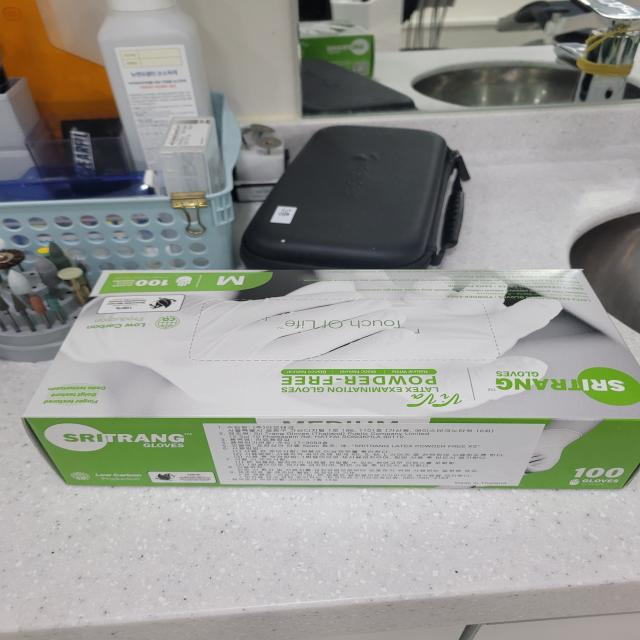glove: (23, 255, 640, 512)
